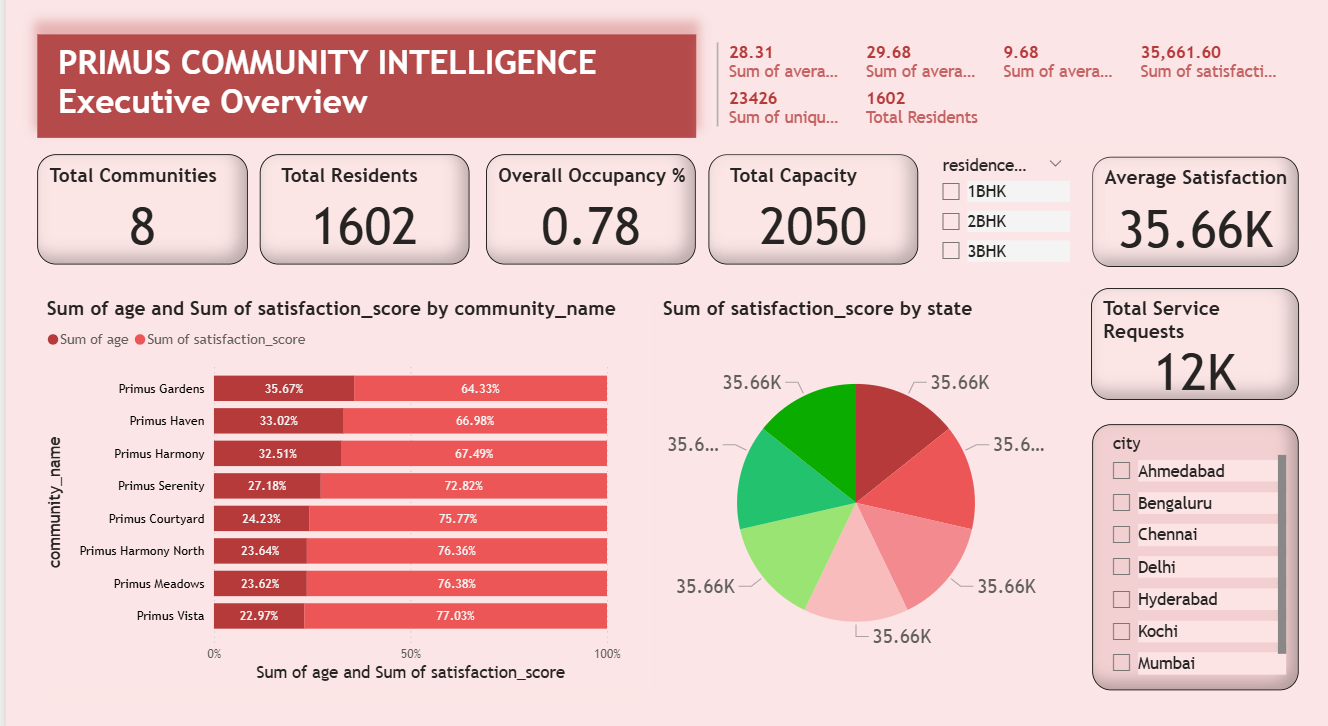

Layout of this report page (visuals, bound fields, positions):
{"tool":"powerbi","page":{"name":"Page 1","canvas":[1280,720],"ordinal":0},"visuals":[{"type":"textbox","box":[30.2,44.6,635.8,100.1],"z":0},{"type":"card","title":"Total Communities","fields":{"Values":["communities.Total Communities"]},"box":[30.6,160.2,203,106.4],"z":1000},{"type":"card","title":"Total Residents","fields":{"Values":["residents.Total Residents"]},"box":[244.9,160.5,202.7,106.2],"z":2000},{"type":"card","title":"Overall Occupancy %","fields":{"Values":["communities.Overall Occupancy %"]},"box":[463.3,160.5,202.7,106.2],"z":3000},{"type":"card","title":"Total Capacity","fields":{"Values":["communities.Total Capacity"]},"box":[678,160.5,202.7,106.2],"z":4000},{"type":"card","title":"Average Satisfaction","fields":{"Values":["Sum(resident_engagement.satisfaction_score)"]},"box":[1048,162.6,199.3,106.4],"z":5000},{"type":"card","title":"Total Service Requests","fields":{"Values":["Sum(resident_engagement.service_requests)"]},"box":[1046.7,289.8,200.5,107.6],"z":6000},{"type":"hundredPercentStackedBarChart","fields":{"Y":["Sum(residents.age)","Sum(resident_engagement.satisfaction_score)"],"Category":["communities.community_name"]},"box":[19.3,289.5,594.8,387.3],"z":7000},{"type":"pieChart","fields":{"Category":["communities.state"],"Y":["Sum(resident_engagement.satisfaction_score)"]},"box":[614.1,289.5,412.6,388.5],"z":8000},{"type":"slicer","fields":{"Values":["communities.city"]},"box":[1048,420.7,199.3,256.8],"z":9000},{"type":"slicer","fields":{"Values":["residents.residence_type"]},"box":[875.9,153.2,171.3,125.5],"z":10000},{"type":"multiRowCard","fields":{"Values":["Sum(community_experience_summary.average_activities)","Sum(community_experience_summary.average_satisfaction)","Sum(community_experience_summary.average_service_requests)","Sum(resident_engagement.satisfaction_score)","Sum(resident_engagement.unique_activity_types)","residents.Total Residents"]},"box":[666,44.6,581.5,108.6],"z":11000}]}

Visuals, with their boxes in screenshot pixels (x1, y1, x2, y2), scaled from the page's 1280x720 canvas onto the 1328x726 screenshot:
textbox: region(31, 45, 691, 146)
"Total Communities" card: region(32, 162, 242, 269)
"Total Residents" card: region(254, 162, 464, 269)
"Overall Occupancy %" card: region(481, 162, 691, 269)
"Total Capacity" card: region(703, 162, 914, 269)
"Average Satisfaction" card: region(1087, 164, 1294, 271)
"Total Service Requests" card: region(1086, 292, 1294, 401)
hundredPercentStackedBarChart - Sum(residents.age) x Sum(resident_engagement.satisfaction_score): region(20, 292, 637, 682)
pieChart - communities.state x Sum(resident_engagement.satisfaction_score): region(637, 292, 1065, 684)
slicer - communities.city: region(1087, 424, 1294, 683)
slicer - residents.residence_type: region(909, 154, 1086, 281)
multiRowCard - Sum(community_experience_summary.average_activities) x Sum(community_experience_summary.average_satisfaction): region(691, 45, 1294, 154)
